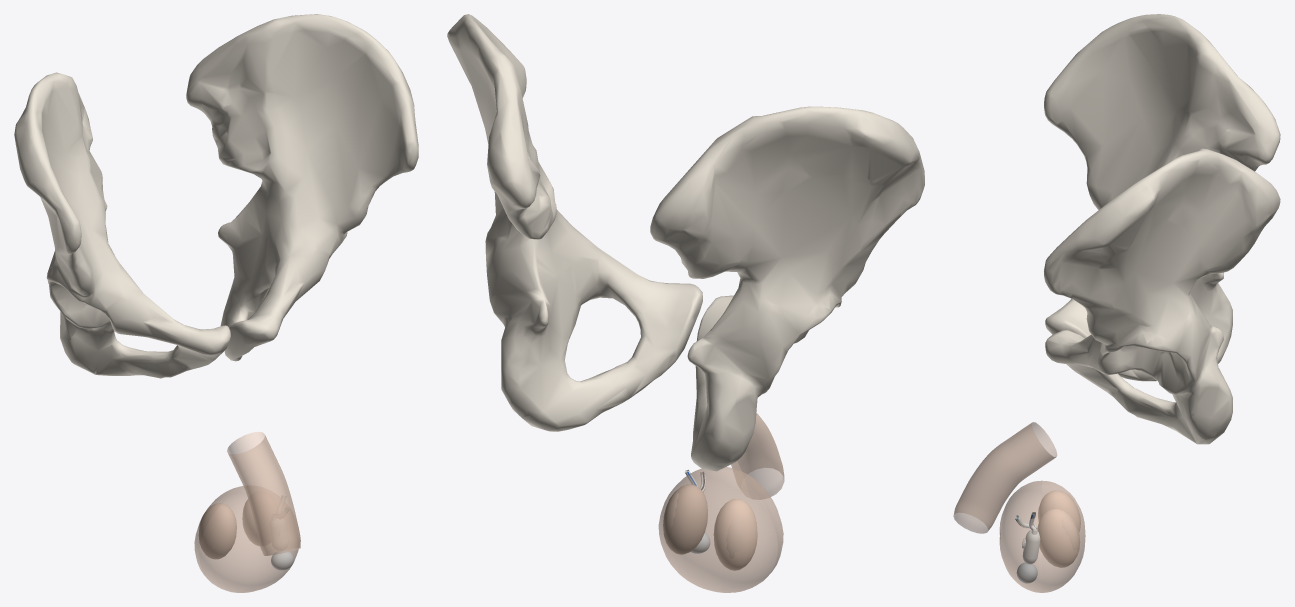
File: aus-31-pump.glb
3 views of the same model, side by side, from view 1: azimuth 30°, elevation 25°; view 2: azimuth 150°, elevation 25°; view 3: azimuth 270°, elevation 25° (orthographic). The views are drawn at different scales.
Parts seen in each view (by area): view 1: Pubis_L, Pubis_R, Scrotum_shell, Penile_skin, Testis_R; view 2: Pubis_R, Pubis_L, Scrotum_shell, Penile_skin, Testis_R, Testis_L; view 3: Pubis_L, Pubis_R, Scrotum_shell, Penile_skin, Testis_L, Testis_R, Pump_body.
Boxes of the visible parts, x1,y1,x2,y2 form: Pubis_L: [186, 14, 418, 361]; Pubis_R: [14, 72, 230, 378]; Scrotum_shell: [194, 486, 298, 592]; Penile_skin: [227, 431, 300, 555]; Testis_R: [198, 503, 236, 559]; Pubis_R: [650, 106, 924, 471]; Pubis_L: [447, 14, 702, 431]; Scrotum_shell: [658, 466, 783, 592]; Penile_skin: [731, 413, 784, 499]; Testis_R: [713, 499, 757, 570]; Testis_L: [663, 484, 707, 554]; Pubis_L: [1044, 148, 1280, 444]; Pubis_R: [1044, 14, 1280, 381]; Scrotum_shell: [999, 480, 1085, 592]; Penile_skin: [953, 422, 1057, 533]; Testis_L: [1037, 508, 1080, 567]; Testis_R: [1038, 490, 1080, 532]; Pump_body: [1022, 530, 1040, 564].
Size of what is drawn, in the model's own units: 0.2698 by 0.332 by 0.1974.
